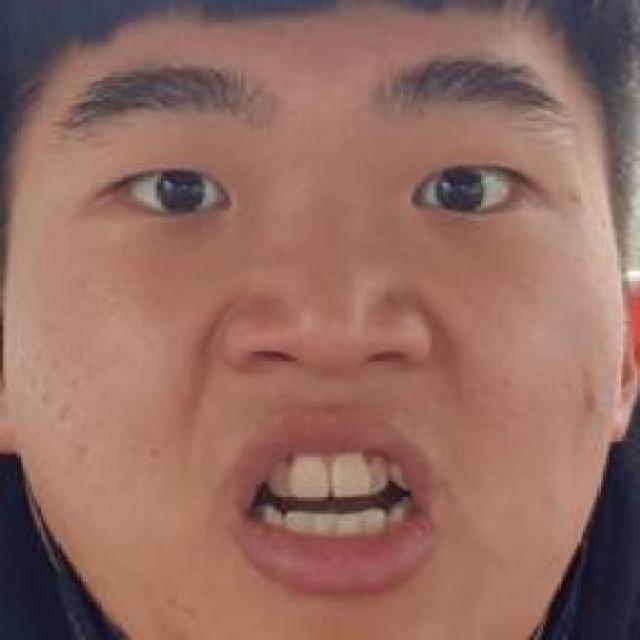angry: (66, 47, 594, 613)
